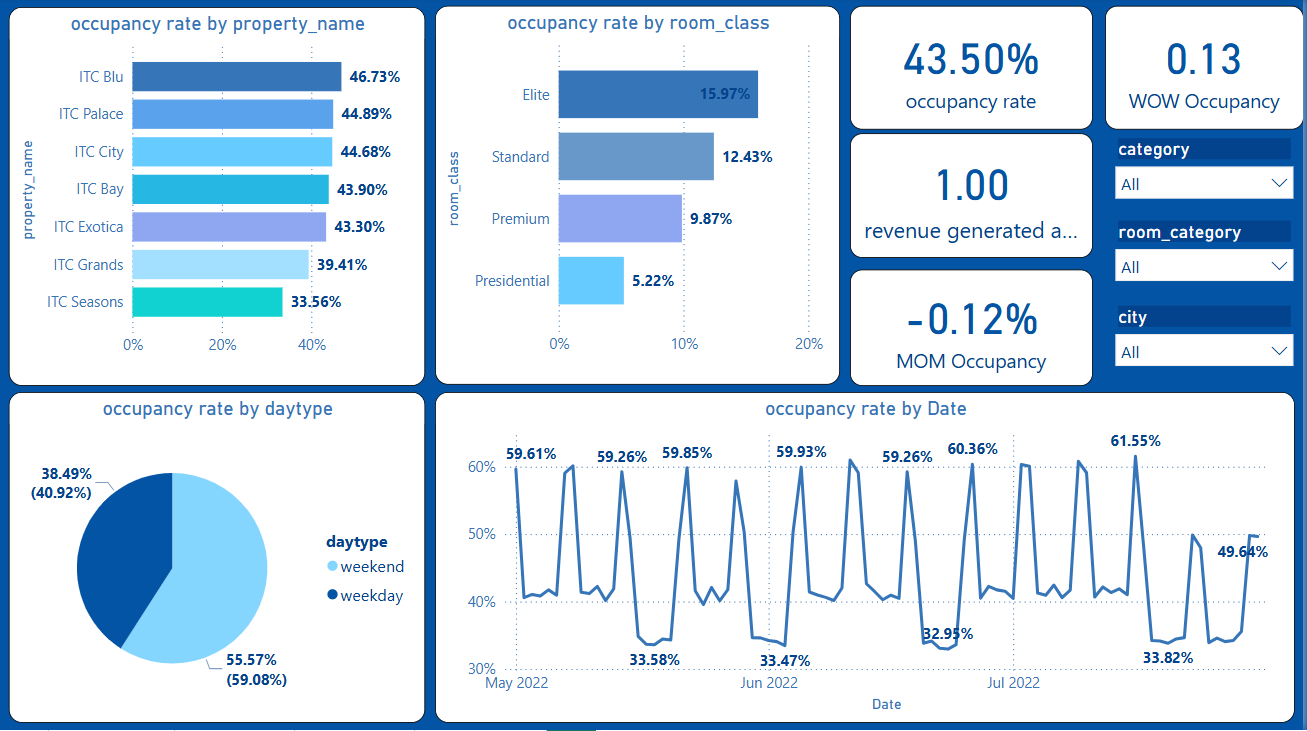

The dashboard page shown, as its layout file describes it:
{"tool":"powerbi","page":{"name":"Occupancy","canvas":[1280,720],"ordinal":1},"visuals":[{"type":"card","fields":{"Values":["Table.occupancy rate"]},"box":[834.4,8.6,238,121.5],"z":0},{"type":"barChart","fields":{"Category":["rooms.room_class"],"Y":["Table.occupancy rate"]},"box":[427,8.6,397.5,371.8],"z":1000},{"type":"barChart","fields":{"Y":["Table.occupancy rate"],"Category":["hotels.property_name"]},"box":[8.6,9.8,408.6,371.8],"z":2000},{"type":"pieChart","fields":{"Category":["calender.daytype"],"Y":["Table.occupancy rate"]},"box":[8.6,387.7,408.6,325.2],"z":3000},{"type":"lineChart","fields":{"Category":["calender.Date"],"Y":["Table.occupancy rate"]},"box":[427,387.7,844.2,325.2],"z":4000},{"type":"card","fields":{"Values":["Table.WOW Occupancy"]},"box":[1084.7,8.6,195.1,121.5],"z":5000},{"type":"card","fields":{"Values":["Table.revenue generated and occupancy rate correlation for Date"]},"box":[834.4,133.7,238,122.7],"z":6000},{"type":"card","fields":{"Values":["Table.MOM Occupancy"]},"box":[834.4,267.5,238,114.1],"z":7000},{"type":"slicer","fields":{"Values":["hotels.category"]},"box":[1084.7,133.7,195.1,81],"z":8000},{"type":"slicer","fields":{"Values":["occupancy.room_category"]},"box":[1084.7,214.7,195.1,83.4],"z":9000},{"type":"slicer","fields":{"Values":["hotels.city"]},"box":[1084.7,298.2,195.1,83.4],"z":10000}]}

Visuals, with their boxes in screenshot pixels (x1, y1, x2, y2), scaled from the page's 1280x720 canvas onto the 1307x731 screenshot:
card - Table.occupancy rate: (x1=852, y1=9, x2=1095, y2=132)
barChart - rooms.room_class x Table.occupancy rate: (x1=436, y1=9, x2=842, y2=386)
barChart - Table.occupancy rate x hotels.property_name: (x1=9, y1=10, x2=426, y2=387)
pieChart - calender.daytype x Table.occupancy rate: (x1=9, y1=394, x2=426, y2=724)
lineChart - calender.Date x Table.occupancy rate: (x1=436, y1=394, x2=1298, y2=724)
card - Table.WOW Occupancy: (x1=1108, y1=9, x2=1306, y2=132)
card - Table.revenue generated and occupancy rate correlation for Date: (x1=852, y1=136, x2=1095, y2=260)
card - Table.MOM Occupancy: (x1=852, y1=272, x2=1095, y2=387)
slicer - hotels.category: (x1=1108, y1=136, x2=1306, y2=218)
slicer - occupancy.room_category: (x1=1108, y1=218, x2=1306, y2=303)
slicer - hotels.city: (x1=1108, y1=303, x2=1306, y2=387)
